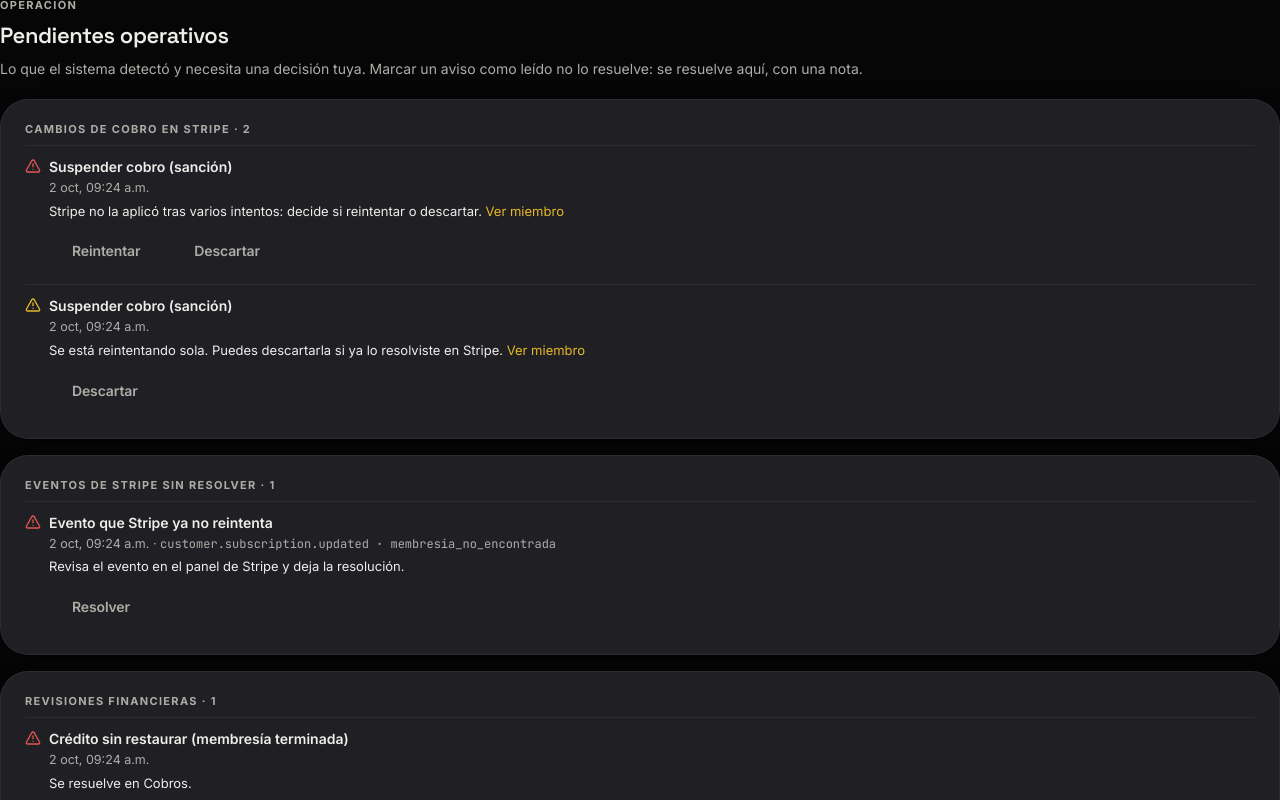
Test: Operación (PKG-03A) › un rechazo del servidor se muestra traducido y no se declara éxito
The image size is (1280, 800).
Click the 1st button "Descartar" at (227, 251), box [171,227,283,274]
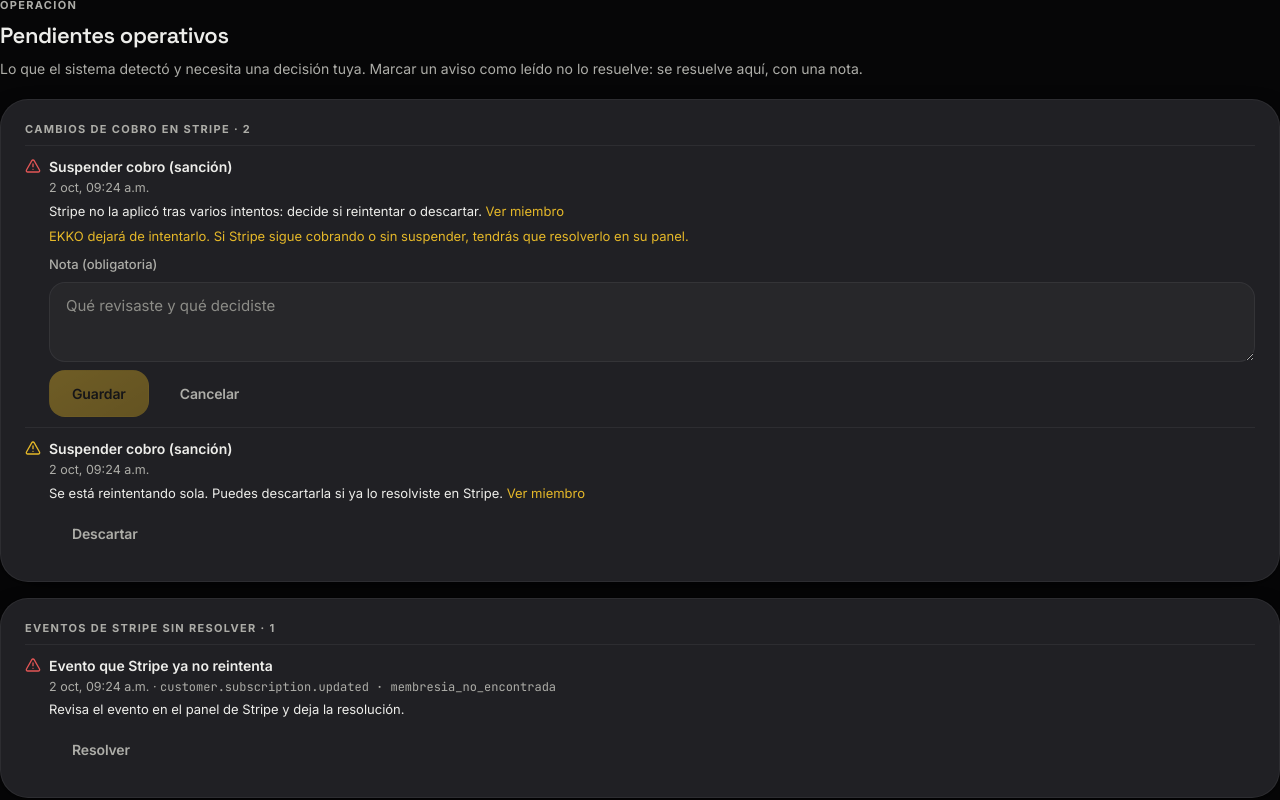
Type "Ya se canceló a mano en Stripe" into the text box labelled "Nota (obligatoria)" at (652, 322), box [49,282,1255,362]
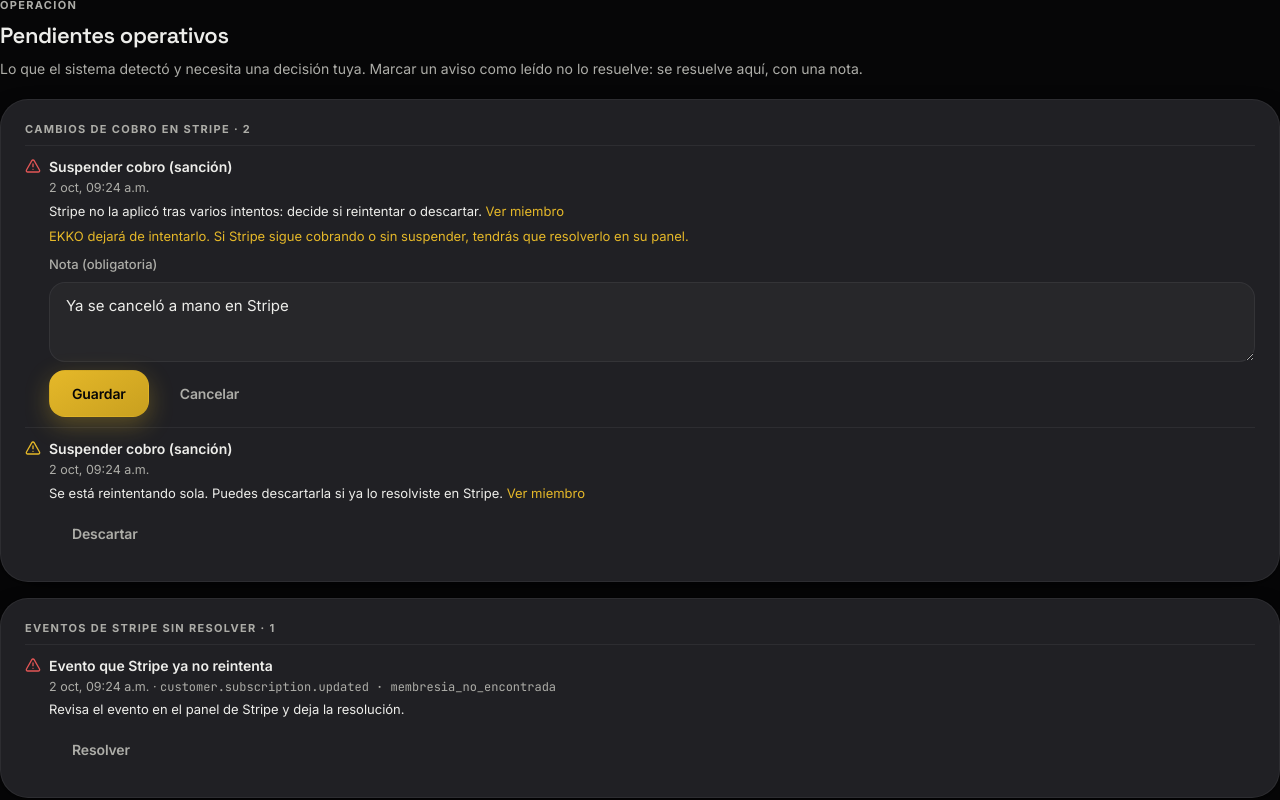
Click the button "Guardar" at (99, 394), box [49,370,149,417]
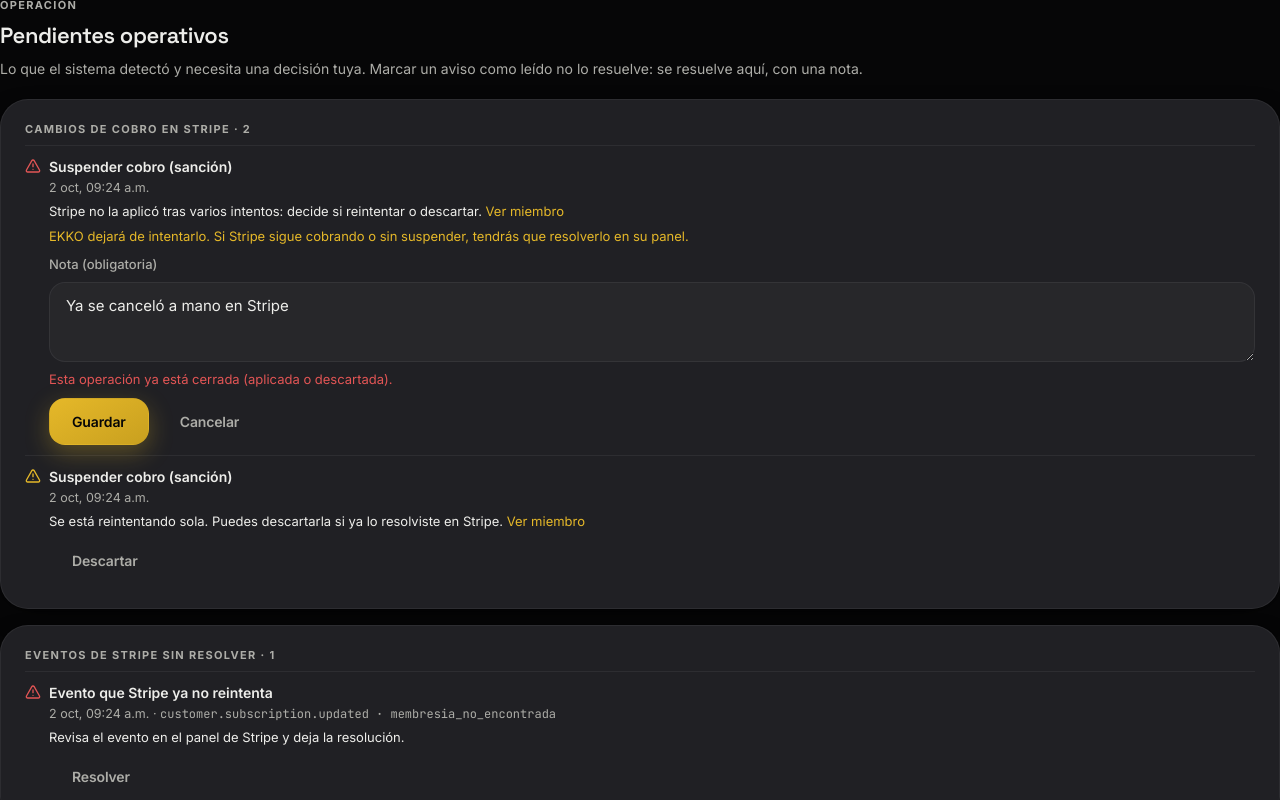
Expected: the text "Esta operación ya está cerrada (aplicada o descartada)." is shown, [49,371,392,387]
